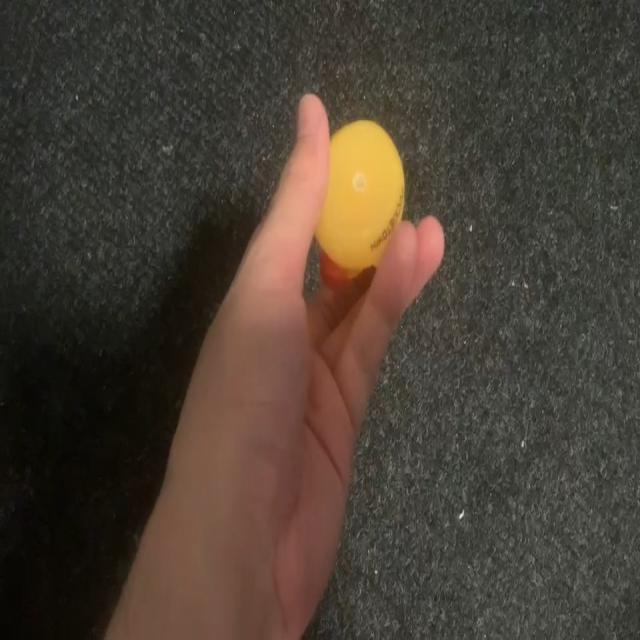rubber-duck: (315, 119, 403, 287)
